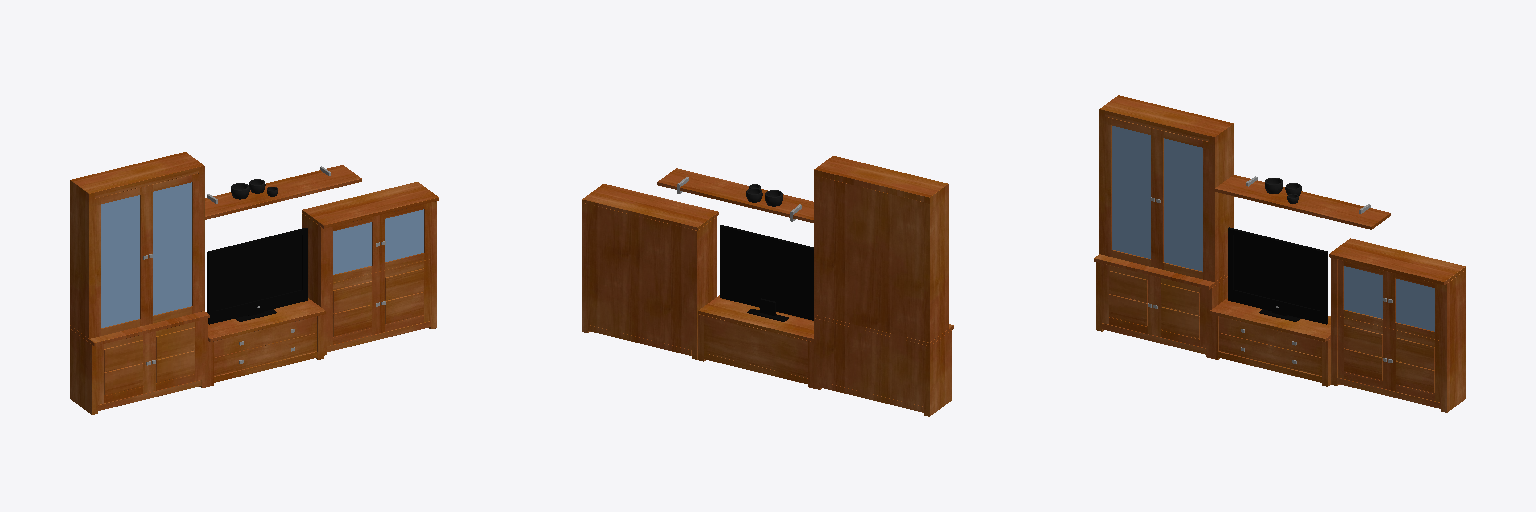
3 views of the same model, side by side, from view 1: azimuth 30°, elevation 25°; view 2: azimuth 150°, elevation 25°; view 3: azimuth 330°, elevation 25° (orthographic).
Parts seen in each view (by area): view 1: big_sideboard_Cube, sideboard_Cube.002, tv_Cube.018, closet_Cube.001, shelf_Cube.003; view 2: big_sideboard_Cube, sideboard_Cube.002, tv_Cube.018, closet_Cube.001, shelf_Cube.003; view 3: big_sideboard_Cube, sideboard_Cube.002, tv_Cube.018, closet_Cube.001, shelf_Cube.003.
Part boxes in pixels (bbox=[...]): big_sideboard_Cube: bbox=[70, 152, 209, 414]; sideboard_Cube.002: bbox=[302, 182, 438, 355]; tv_Cube.018: bbox=[207, 228, 307, 324]; closet_Cube.001: bbox=[208, 298, 325, 386]; shelf_Cube.003: bbox=[205, 165, 361, 219]; big_sideboard_Cube: bbox=[814, 156, 953, 416]; sideboard_Cube.002: bbox=[582, 184, 718, 359]; tv_Cube.018: bbox=[720, 225, 813, 321]; closet_Cube.001: bbox=[698, 295, 813, 388]; shelf_Cube.003: bbox=[657, 168, 813, 222]; big_sideboard_Cube: bbox=[1094, 95, 1233, 358]; sideboard_Cube.002: bbox=[1329, 238, 1465, 412]; tv_Cube.018: bbox=[1228, 227, 1327, 324]; closet_Cube.001: bbox=[1210, 298, 1330, 386]; shelf_Cube.003: bbox=[1215, 175, 1390, 229].
Bounding box in the file's own units: 331 × 199 × 40.37.
8 materials, 1 textured.